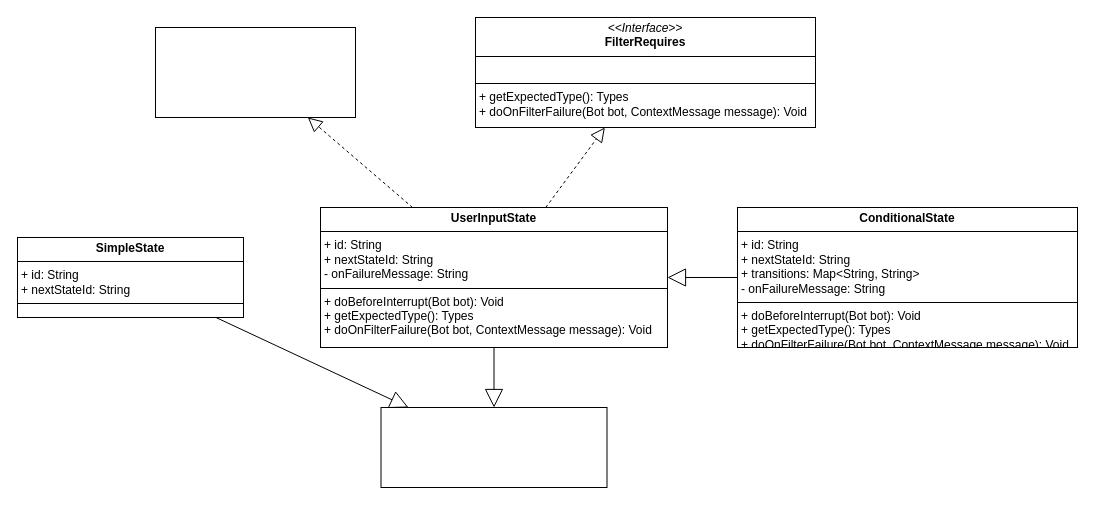
Some shapes in this 1095 by 505 pixel diagram are drawn without their labels. Each missing label, with the centre of its shape:
"<<Interface>> Interruptable + doBeforeInterrupt(Bot bot): Void;" belongs at [255,72].
"State + id: String + nextStateId: String" belongs at [493,447].
